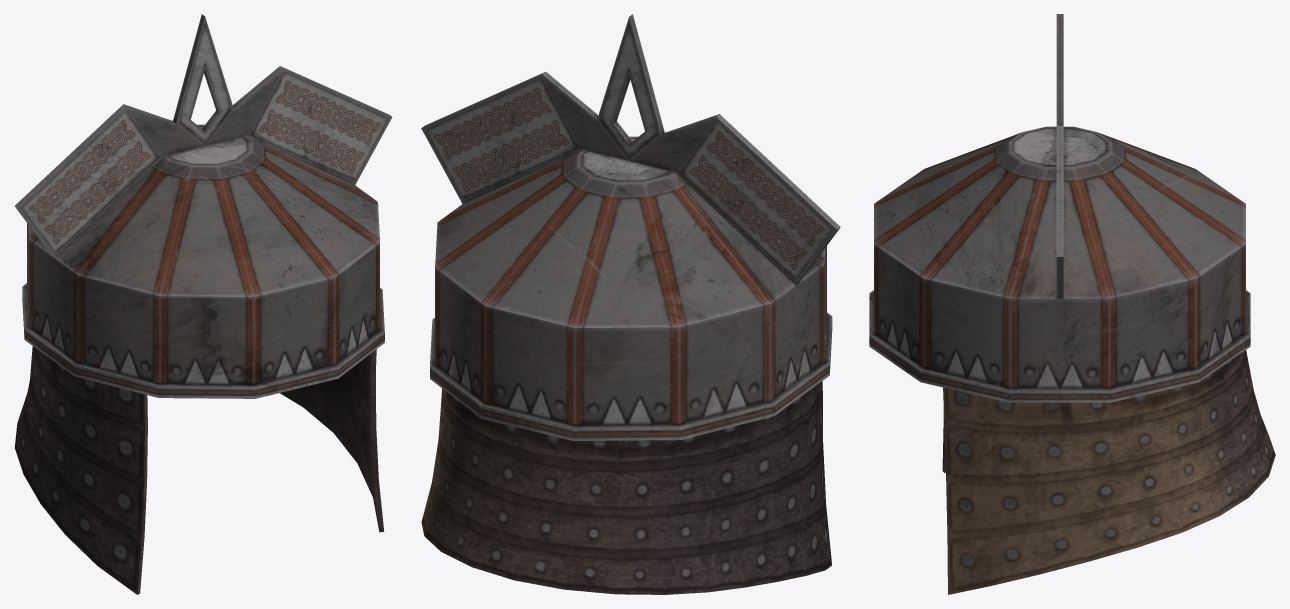
The model's file is sk_dwarf_iron_helmet_light_a2.fbx.
3 renders of one model, left to right at view 1: azimuth 30°, elevation 25°; view 2: azimuth 150°, elevation 25°; view 3: azimuth 270°, elevation 25°, orthographic. The views are drawn at different scales.
Parts seen in each view (by area): view 1: sk_dwarf_iron_helmet_light_a2; view 2: sk_dwarf_iron_helmet_light_a2; view 3: sk_dwarf_iron_helmet_light_a2.
Boxes of the visible parts, x1,y1,x2,y2 form: sk_dwarf_iron_helmet_light_a2: [14, 14, 392, 594]; sk_dwarf_iron_helmet_light_a2: [421, 14, 840, 594]; sk_dwarf_iron_helmet_light_a2: [869, 14, 1275, 594].
Size of the model in its own units: 0.3245 by 0.2984 by 0.4204.
1 material, 1 textured.
